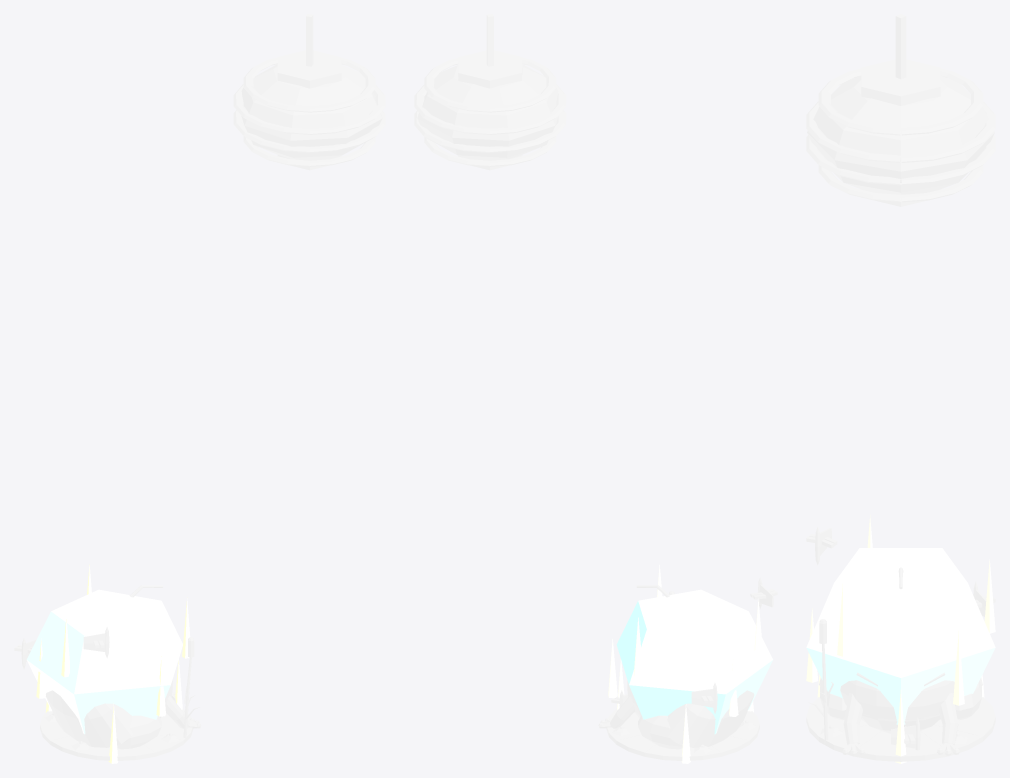
Rendered from maitre-marais-v5-leger.glb.
3 renders of one model, left to right at view 1: azimuth 30°, elevation 25°; view 2: azimuth 150°, elevation 25°; view 3: azimuth 270°, elevation 25°, orthographic. The views are drawn at different scales.
Visible parts, largest first — view 1: maitre_marais_lanterne.001, maitre_marais_lumieres, maitre_marais_corps.001, maitre_marais_flammes.001, maitre_marais_libellules.001; view 2: maitre_marais_lanterne.001, maitre_marais_lumieres, maitre_marais_corps.001, maitre_marais_flammes.001, maitre_marais_libellules.001; view 3: maitre_marais_lanterne.001, maitre_marais_lumieres, maitre_marais_corps.001, maitre_marais_flammes.001, maitre_marais_libellules.001.
Boxes of the visible parts, x1,y1,x2,y2 form: maitre_marais_lanterne.001: (233, 14, 385, 170); maitre_marais_lumieres: (26, 589, 182, 734); maitre_marais_corps.001: (40, 585, 201, 760); maitre_marais_flammes.001: (36, 564, 190, 763); maitre_marais_libellules.001: (14, 627, 175, 702); maitre_marais_lanterne.001: (414, 14, 566, 170); maitre_marais_lumieres: (616, 589, 773, 734); maitre_marais_corps.001: (598, 585, 759, 760); maitre_marais_flammes.001: (608, 564, 763, 763); maitre_marais_libellules.001: (611, 577, 777, 713); maitre_marais_lanterne.001: (806, 14, 995, 206); maitre_marais_lumieres: (806, 548, 995, 724); maitre_marais_corps.001: (806, 567, 995, 761); maitre_marais_flammes.001: (806, 515, 995, 763); maitre_marais_libellules.001: (806, 526, 995, 750).
Bounding box in the file's own units: 4.9 × 9.6 × 2.
